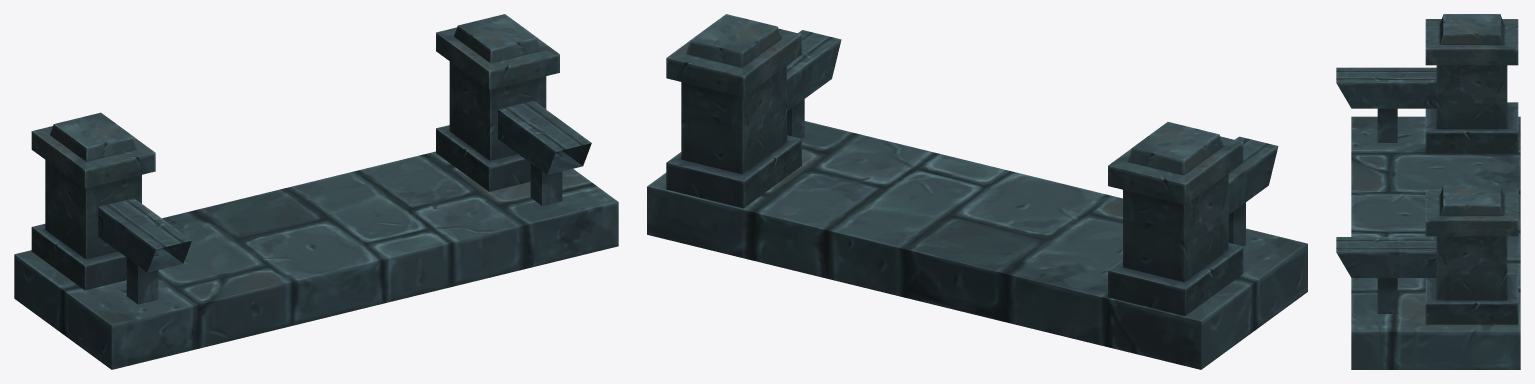
File: Stage_DiXiaCheng_LouTi01.FBX
3 renders of one model, left to right at view 1: azimuth 30°, elevation 25°; view 2: azimuth 150°, elevation 25°; view 3: azimuth 270°, elevation 25°, orthographic. The views are drawn at different scales.
Visible parts, largest first — view 1: Stage_DiXiaCheng_LouTi01; view 2: Stage_DiXiaCheng_LouTi01; view 3: Stage_DiXiaCheng_LouTi01.
Part boxes in pixels (x1,y1,x2,y2): Stage_DiXiaCheng_LouTi01: [14, 14, 618, 369]; Stage_DiXiaCheng_LouTi01: [647, 14, 1307, 369]; Stage_DiXiaCheng_LouTi01: [1336, 14, 1520, 369].
Size of the model in its own units: 600 by 199 by 218.
